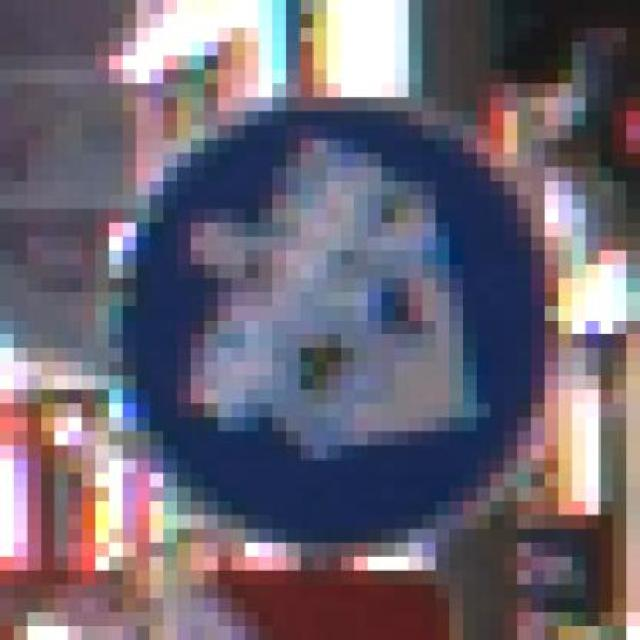Keep-Right: (68, 69, 572, 557)
